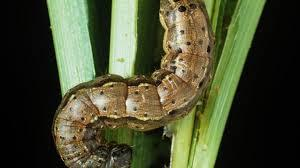fallarmy_worm: (43, 1, 219, 167)
